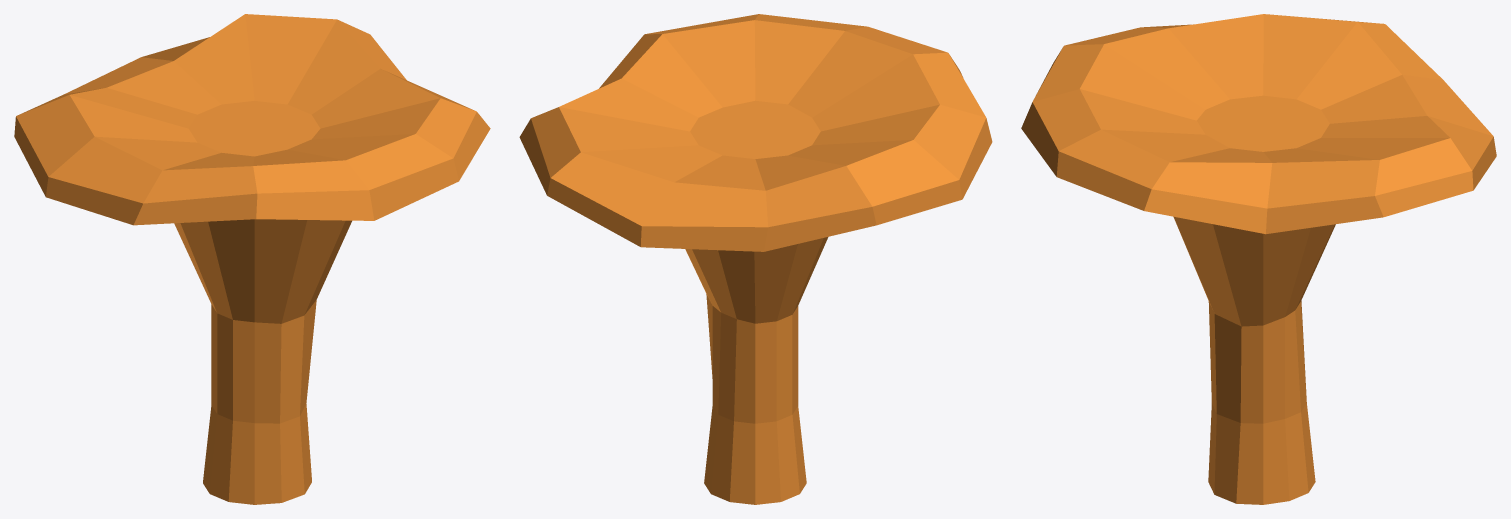
Rendered from Cantharellaceae_bigFlipped.fbx.
3 views of the same model, side by side, from view 1: azimuth 30°, elevation 25°; view 2: azimuth 150°, elevation 25°; view 3: azimuth 270°, elevation 25° (orthographic).
Visible parts, largest first — view 1: Cylinder; view 2: Cylinder; view 3: Cylinder.
Boxes of the visible parts, x1,y1,x2,y2 form: Cylinder: (14, 14, 490, 504); Cylinder: (519, 14, 992, 504); Cylinder: (1021, 14, 1496, 504).
Size of the model in its own units: 82.85 by 80.67 by 87.3.
